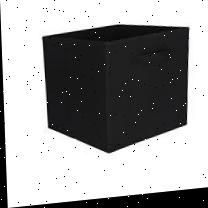cube: (41, 20, 192, 161)
